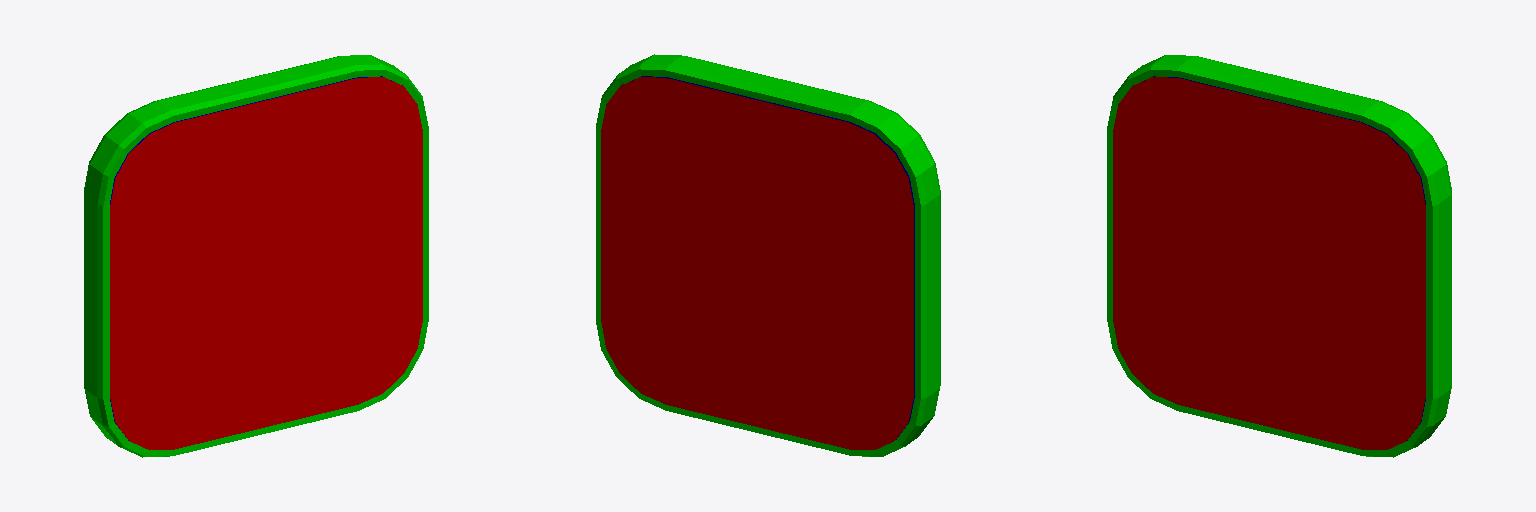
The model's file is Small.obj.
The picture shows the model from 3 angles: view 1: azimuth 30°, elevation 25°; view 2: azimuth 150°, elevation 25°; view 3: azimuth 330°, elevation 25°; orthographic projection.
Visible parts, largest first — view 1: small_image_Untitled.006, small_frame_Untitled.007; view 2: small_image_Untitled.006, small_frame_Untitled.007, small_backdrop_Untitled.008; view 3: small_image_Untitled.006, small_frame_Untitled.007.
Boxes of the visible parts, x1,y1,x2,y2 form: small_image_Untitled.006: [110, 77, 422, 449]; small_frame_Untitled.007: [84, 55, 428, 457]; small_image_Untitled.006: [601, 77, 913, 449]; small_frame_Untitled.007: [596, 54, 940, 456]; small_backdrop_Untitled.008: [621, 76, 914, 439]; small_image_Untitled.006: [1113, 77, 1425, 449]; small_frame_Untitled.007: [1107, 55, 1451, 457].
Size of the model in its own units: 0.9129 by 0.9129 by 0.1005.